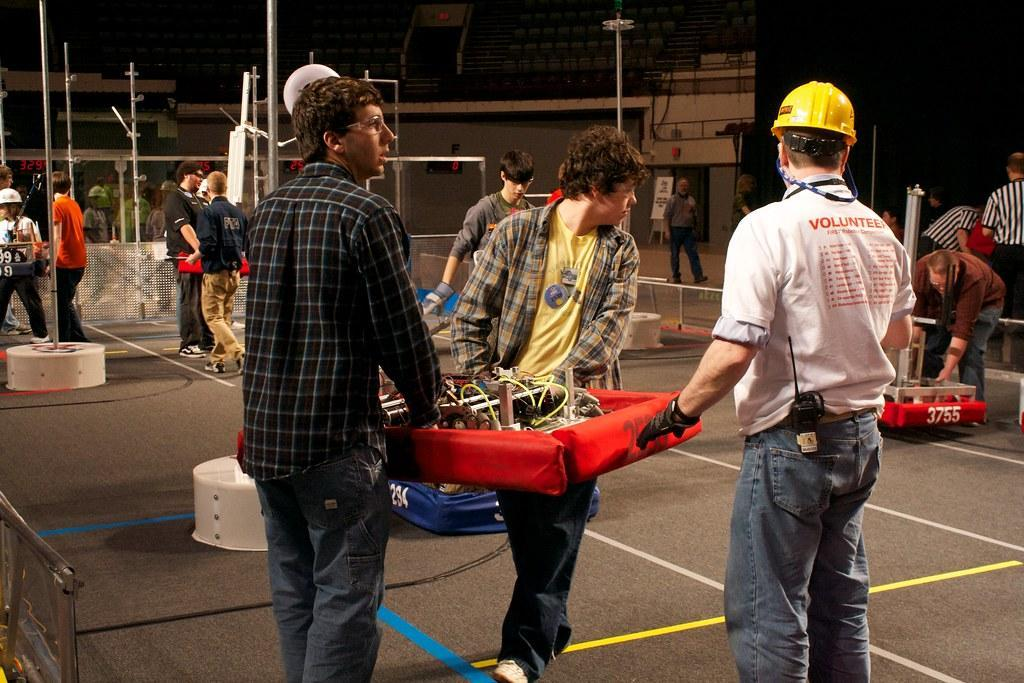robot: (226, 346, 713, 502), (837, 177, 999, 439), (360, 381, 610, 536)
